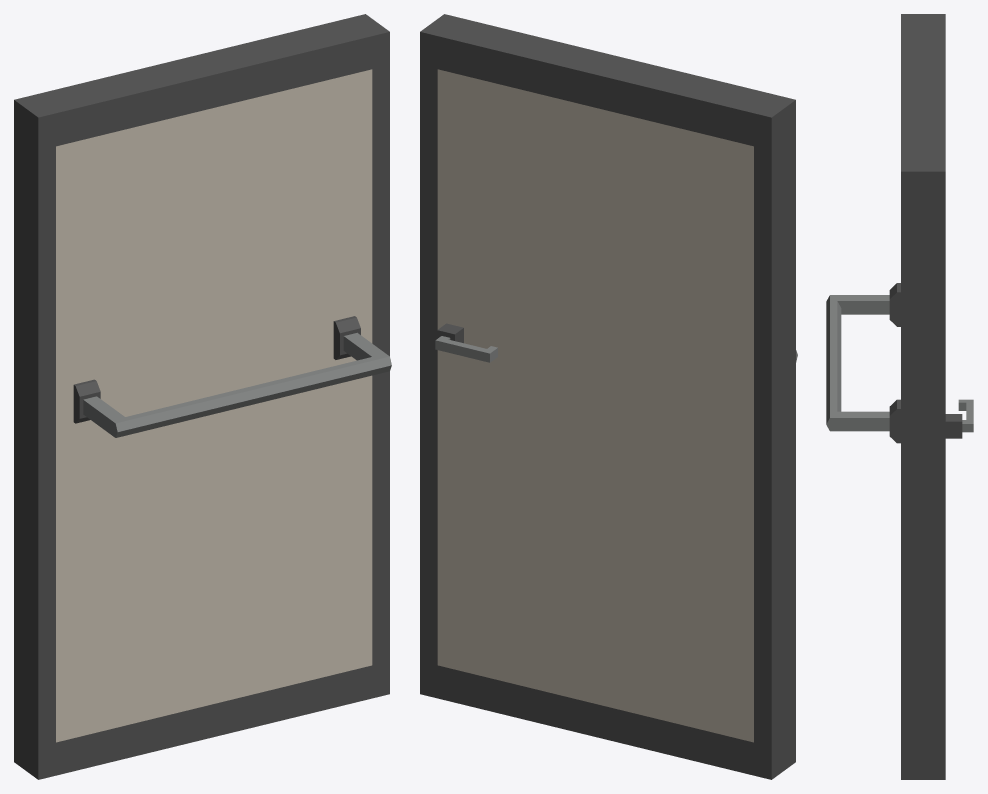
File: Door.fbx
The picture shows the model from 3 angles, left to right: view 1: azimuth 30°, elevation 25°; view 2: azimuth 150°, elevation 25°; view 3: azimuth 270°, elevation 25°; orthographic projection. The views are drawn at different scales.
Parts seen in each view (by area): view 1: Door, Lever 1; view 2: Door, Lever 2; view 3: Door, Lever 1, Lever 2.
Part boxes in pixels (bbox=[...]): Door: bbox=[14, 14, 389, 779]; Lever 1: bbox=[83, 332, 391, 437]; Door: bbox=[420, 14, 795, 779]; Lever 2: bbox=[435, 336, 497, 362]; Door: bbox=[889, 14, 962, 779]; Lever 1: bbox=[826, 295, 889, 431]; Lever 2: bbox=[958, 399, 973, 432].
Size of the model in its own units: 10 by 18 by 3.95.
